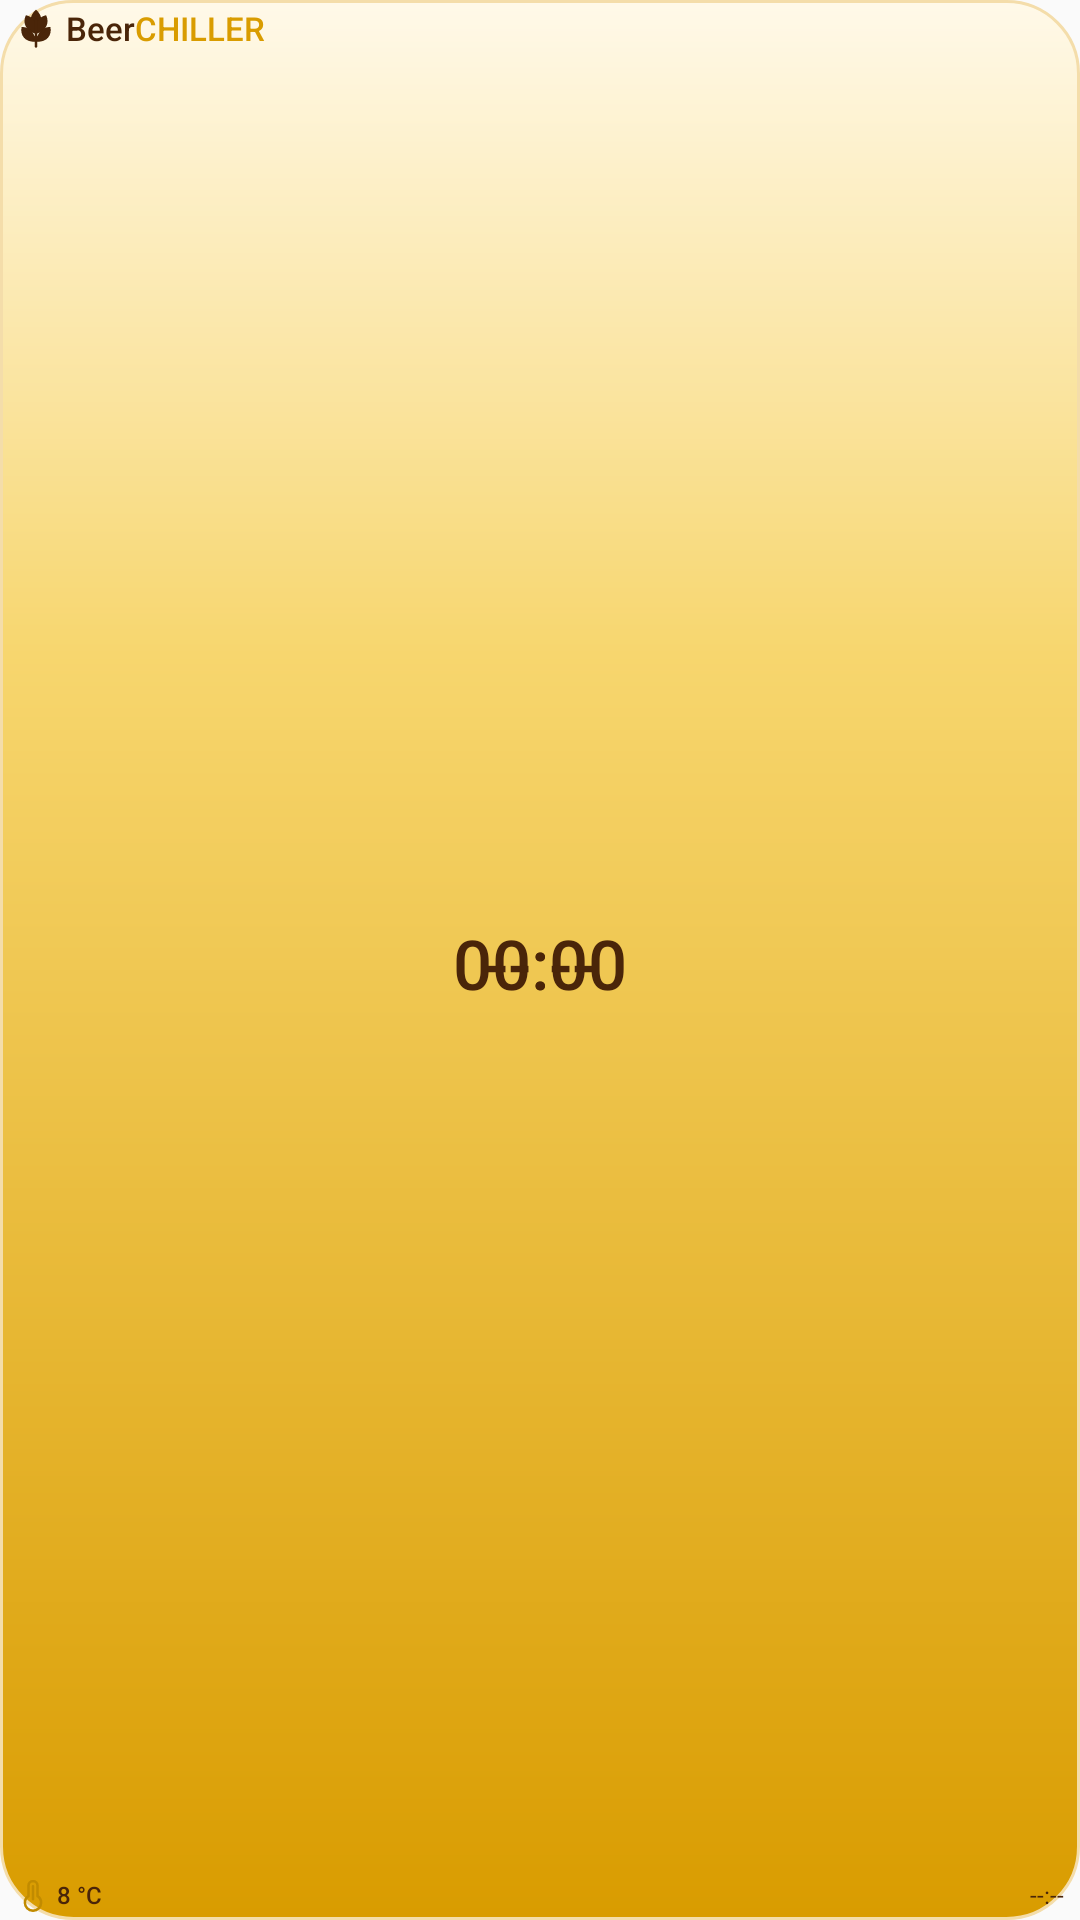

Point at icon controls on the screen. Image size 1080px×1920px, points as point (x, y).
hops vr: point (36, 28)
